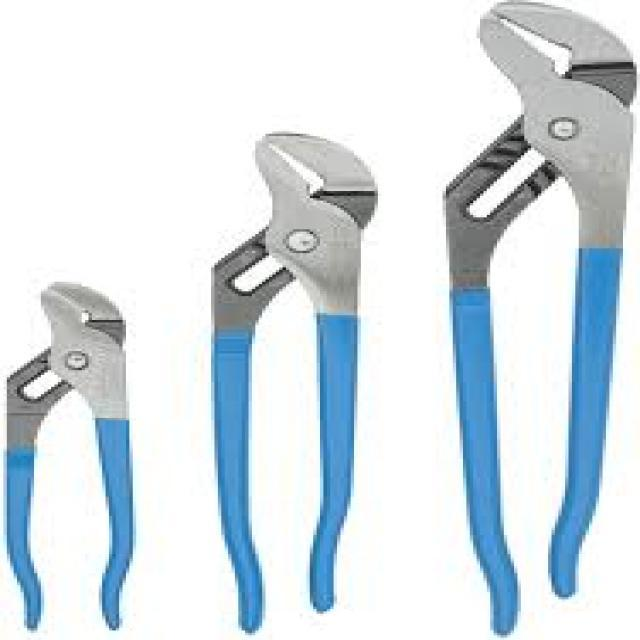pliers: (424, 0, 638, 633), (192, 122, 386, 636), (0, 270, 143, 638)
